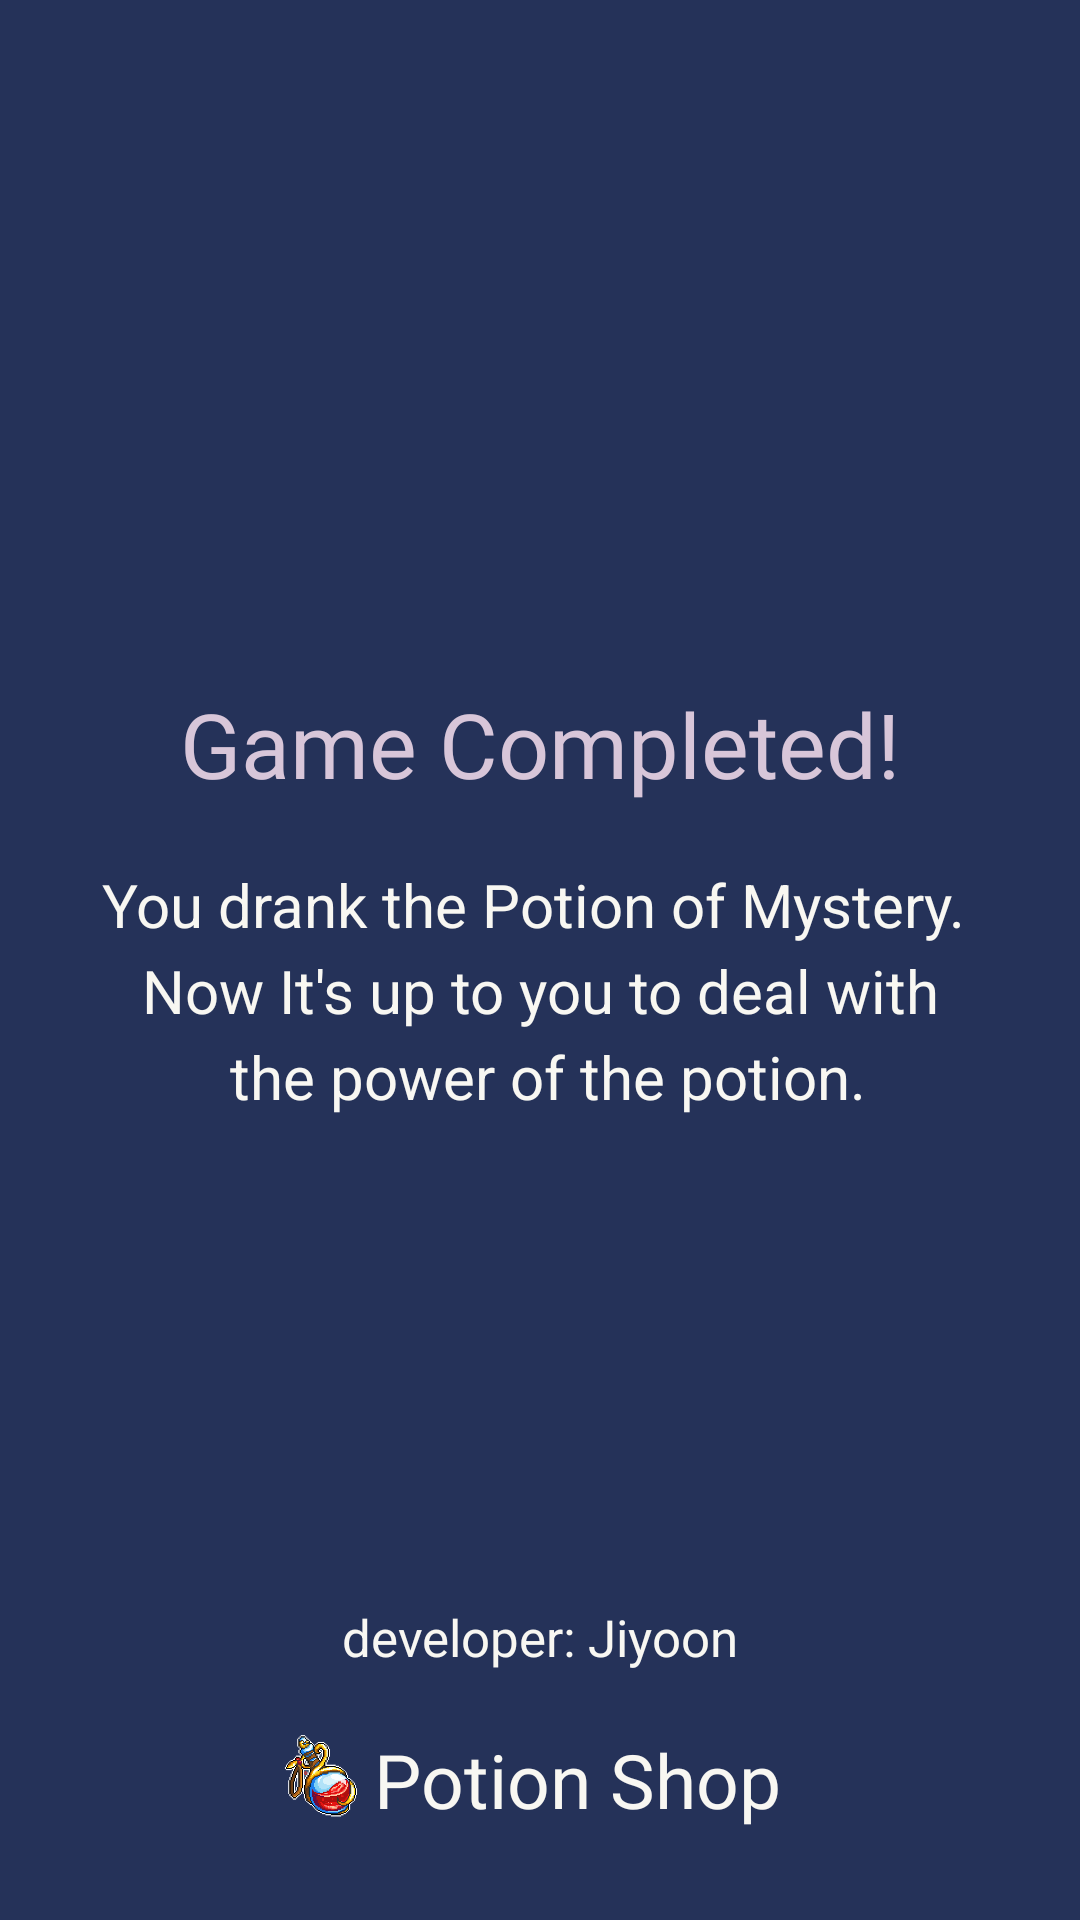

Point at icon controls on the screen. Image size 1080*1920, points as (x,y).
App Icon: (321,1776)
